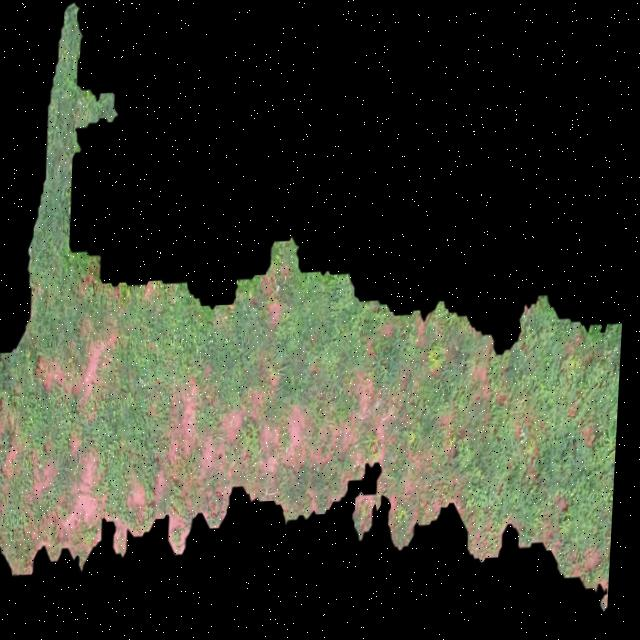Weed: (0, 2, 626, 616)
